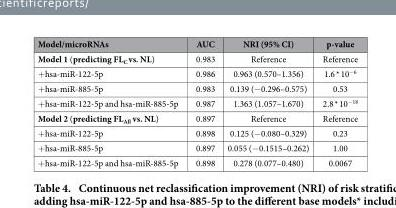table: (36, 37, 357, 168)
table column: (36, 37, 186, 168), (220, 37, 315, 168), (315, 37, 357, 168), (186, 37, 220, 168)
table column header: (36, 37, 357, 50)
table row: (36, 50, 357, 66), (36, 80, 357, 95), (36, 95, 357, 110), (36, 110, 357, 125), (36, 125, 357, 140), (36, 66, 357, 80), (36, 140, 357, 154), (36, 154, 357, 168), (36, 37, 357, 50)
